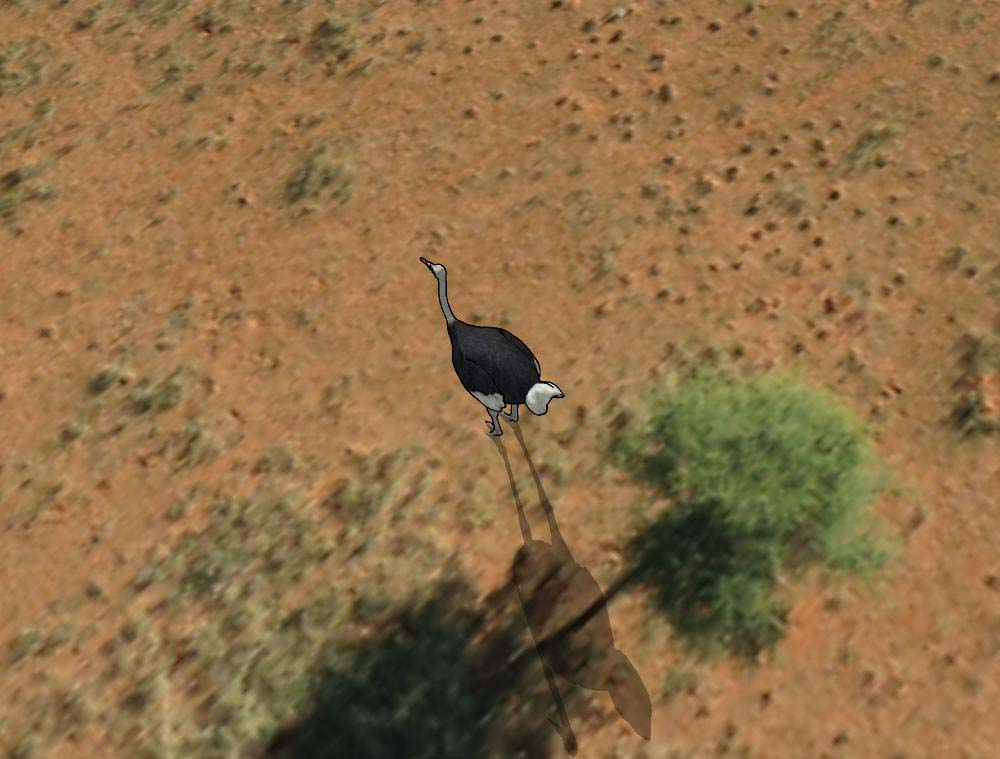ostrich: (413, 250, 565, 443)
